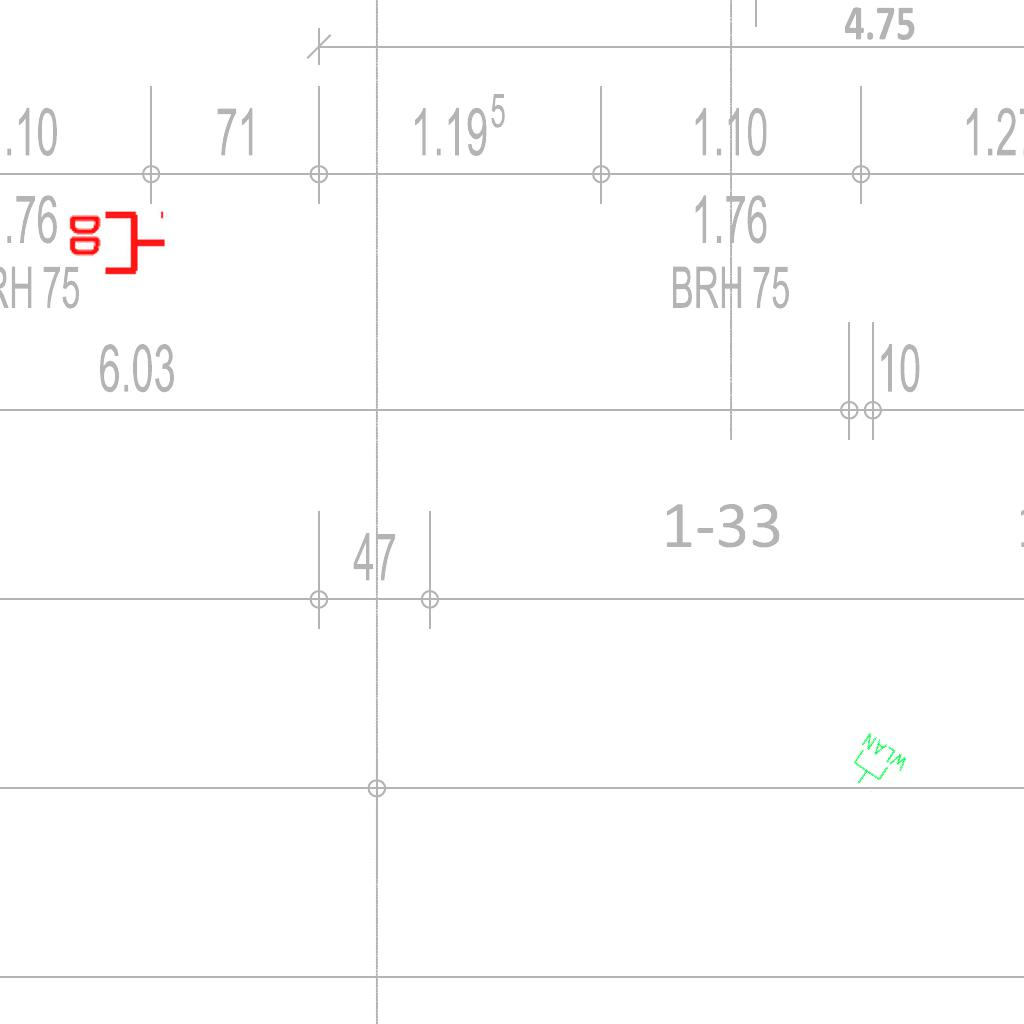Datenanschluss_zweifach: (65, 210, 168, 279)
WLAN: (839, 729, 913, 803)
